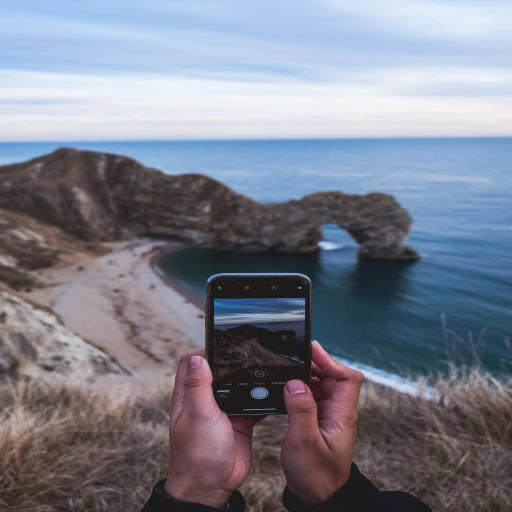phone: (207, 272, 325, 424)
